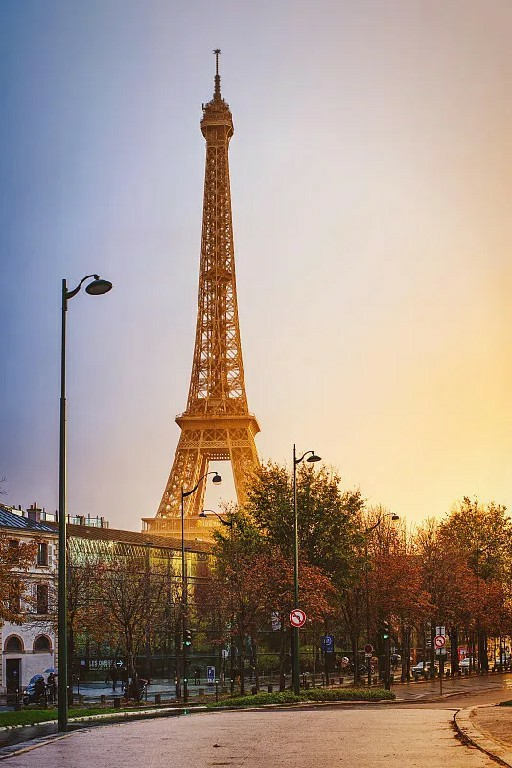Eiffel: (141, 48, 265, 541)
